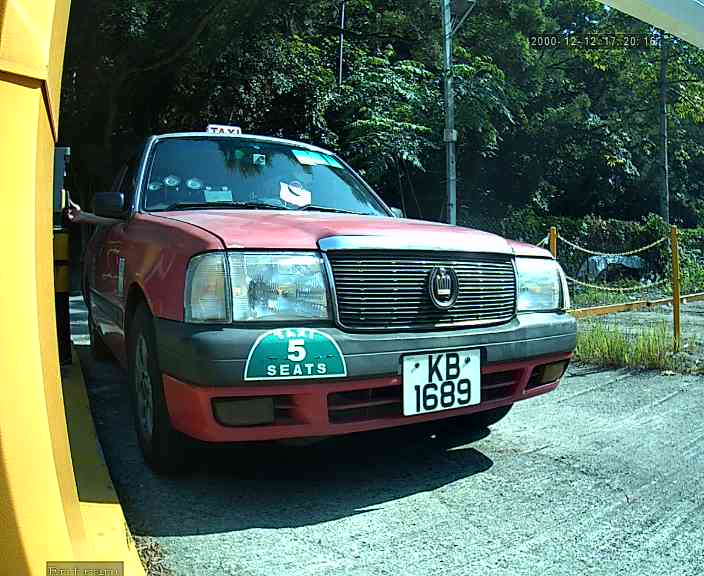bottom_left_lp: (400, 410, 408, 418)
bottom_left_radiator: (334, 318, 349, 336)
bottom_left_windshield: (133, 201, 156, 215)
bottom_right_lp: (476, 397, 485, 405)
bottom_right_radiator: (505, 311, 522, 326)
bottom_right_windshield: (379, 208, 394, 218)
brand: (426, 265, 462, 310)
left_headlight: (186, 244, 337, 331)
right_headlight: (507, 249, 576, 322)
top_left_lp: (400, 350, 409, 363)
top_left_radiator: (321, 241, 335, 259)
top_left_windshield: (149, 131, 162, 145)
top_right_lp: (475, 344, 483, 356)
top_right_radiator: (504, 250, 517, 265)
top_right_windshield: (326, 148, 340, 161)
